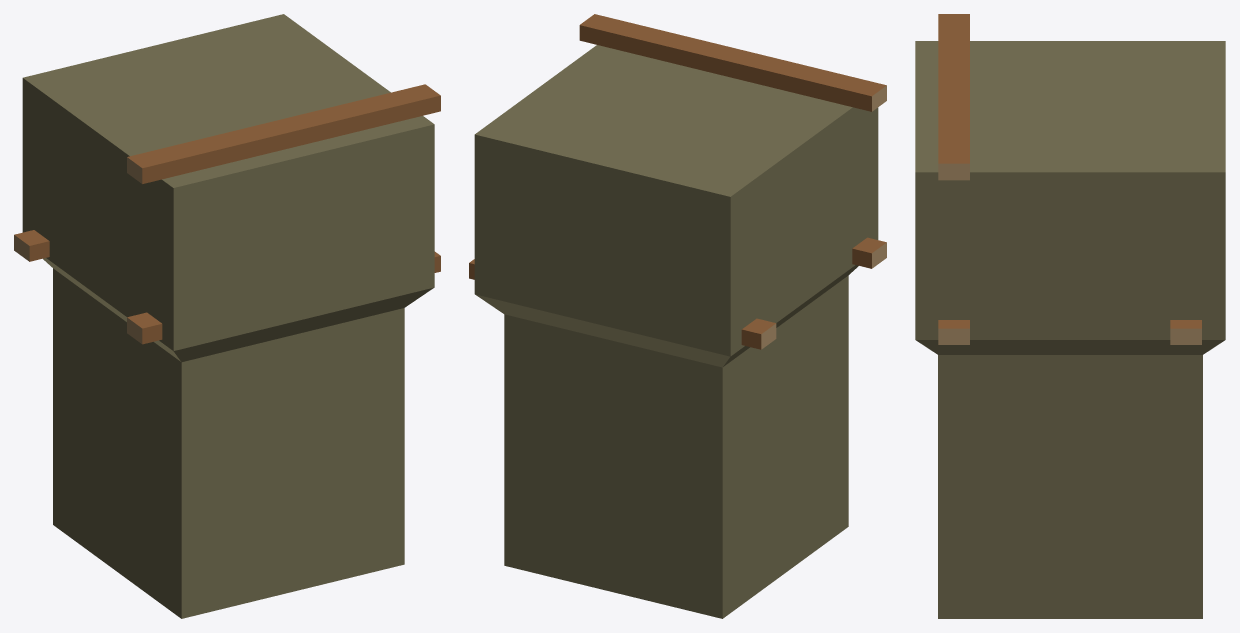
3 views of the same model, side by side, from view 1: azimuth 30°, elevation 25°; view 2: azimuth 150°, elevation 25°; view 3: azimuth 270°, elevation 25° (orthographic). The views are drawn at different scales.
Parts seen in each view (by area): view 1: Box211_rock2_0, Box15502_brown_0, Box15504_brown_0, Box15503_brown_0; view 2: Box211_rock2_0, Box15502_brown_0, Box15503_brown_0, Box15504_brown_0; view 3: Box211_rock2_0, Box15502_brown_0, Box15502_brown2_0, Box15504_brown2_0, Box15503_brown2_0.
Part boxes in pixels (box(x1,y1,x2,y2)): Box211_rock2_0: box(22, 14, 434, 618); Box15502_brown_0: box(127, 84, 440, 183); Box15504_brown_0: box(127, 251, 440, 344); Box15503_brown_0: box(14, 230, 49, 261); Box211_rock2_0: box(474, 45, 878, 618); Box15502_brown_0: box(579, 14, 886, 111); Box15503_brown_0: box(469, 259, 775, 349); Box15504_brown_0: box(852, 237, 886, 268); Box211_rock2_0: box(915, 41, 1225, 618); Box15502_brown_0: box(938, 14, 969, 163); Box15502_brown2_0: box(938, 163, 969, 180); Box15504_brown2_0: box(938, 328, 969, 344); Box15503_brown2_0: box(1170, 328, 1201, 344).
Bounding box in the file's own units: 535 × 789 × 469.
